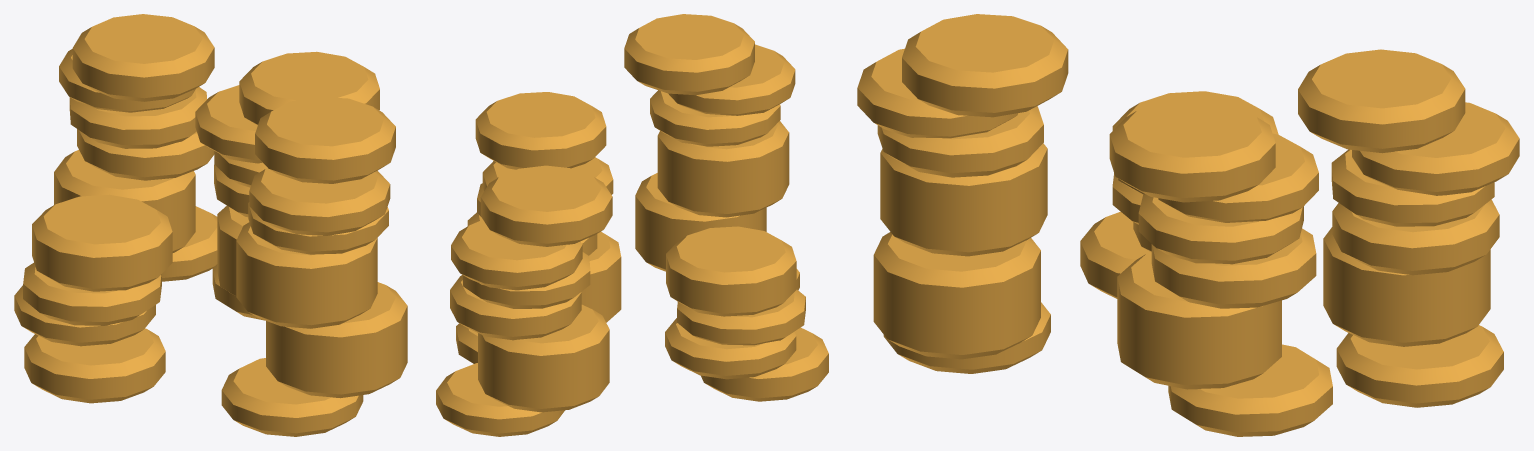
The model's file is Prop_Coins.glb.
The picture shows the model from 3 angles, left to right: view 1: azimuth 30°, elevation 25°; view 2: azimuth 150°, elevation 25°; view 3: azimuth 270°, elevation 25°; orthographic projection. The views are drawn at different scales.
Visible parts, largest first — view 1: Prop_Coins; view 2: Prop_Coins; view 3: Prop_Coins.
Part boxes in pixels (x1,y1,x2,y2): Prop_Coins: (14, 14, 407, 436); Prop_Coins: (436, 14, 828, 436); Prop_Coins: (857, 14, 1519, 436).
Bounding box in the file's own units: 0.4567 × 0.3439 × 0.6354.
1 material, 1 textured.
